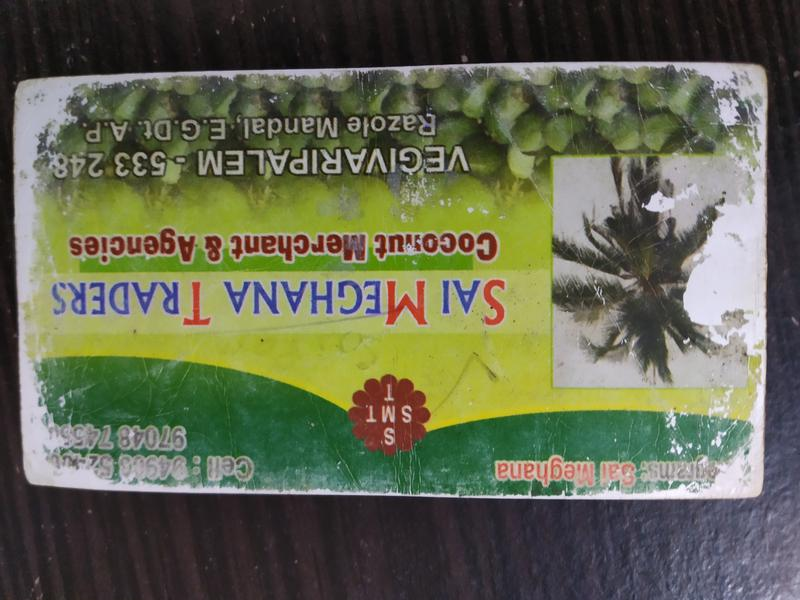card: (14, 66, 767, 501)
